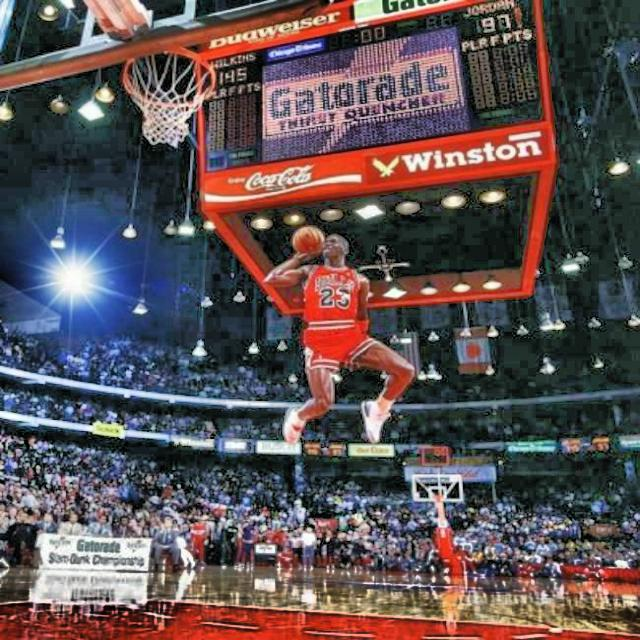rim: (121, 49, 217, 147)
